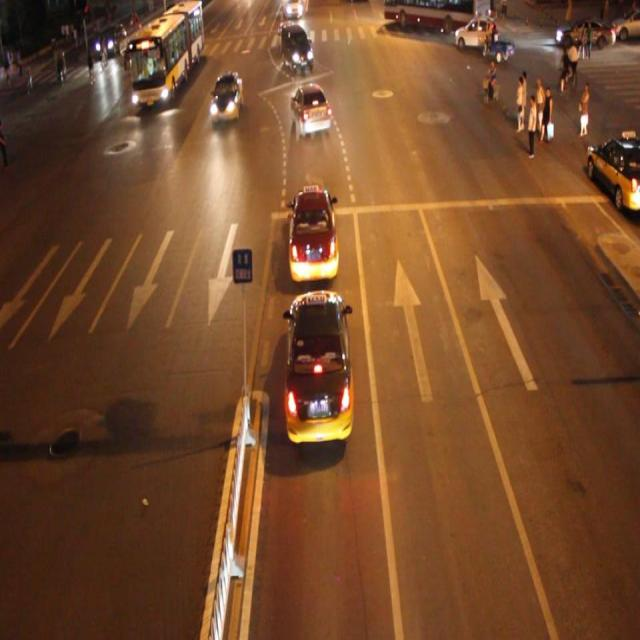car: (285, 288, 354, 442), (287, 188, 339, 284), (290, 82, 330, 135), (208, 70, 242, 121), (280, 28, 314, 75)
van: (130, 1, 203, 109)
